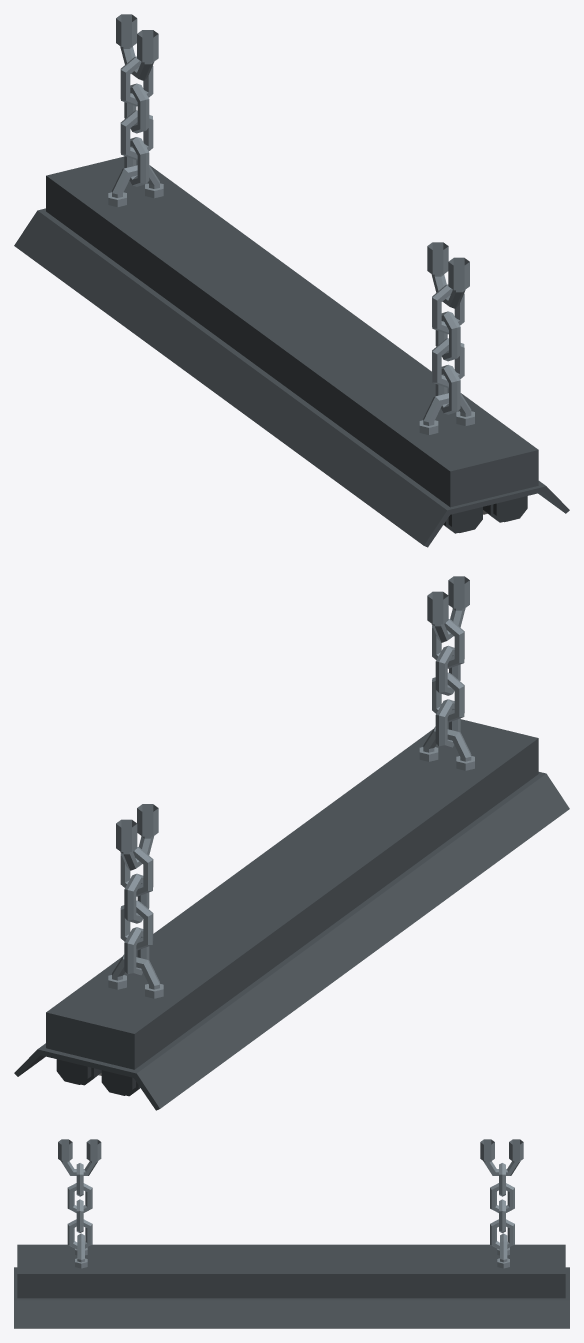
Rendered from SM_Prop_LightsFlat_01.fbx.
The picture shows the model from 3 angles, top to bottom: view 1: azimuth 30°, elevation 25°; view 2: azimuth 150°, elevation 25°; view 3: azimuth 270°, elevation 25°; orthographic projection. The views are drawn at different scales.
Visible parts, largest first — view 1: SM_Prop_LightsFlat_01; view 2: SM_Prop_LightsFlat_01; view 3: SM_Prop_LightsFlat_01.
Boxes of the visible parts, left/top/right/bottom form: SM_Prop_LightsFlat_01: left=14, top=14, right=569, bottom=547; SM_Prop_LightsFlat_01: left=14, top=576, right=569, bottom=1110; SM_Prop_LightsFlat_01: left=14, top=1139, right=569, bottom=1328.
Size of the model in its own units: 50.73 by 82.06 by 246.
